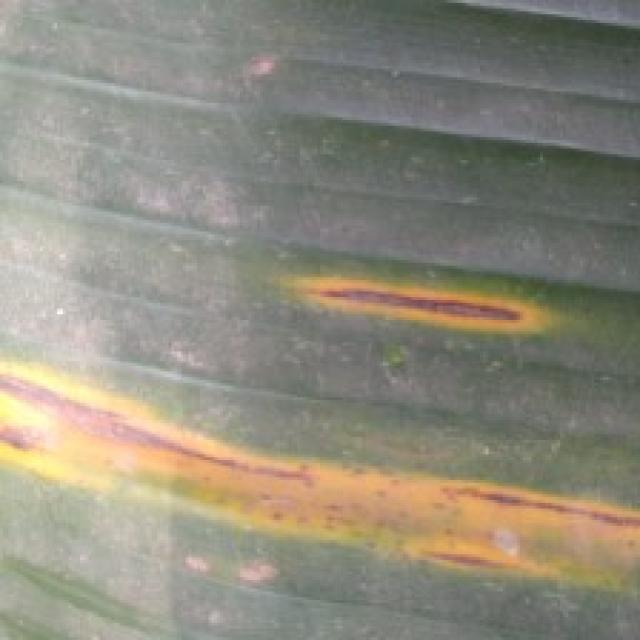Early_leaf_spot: (0, 344, 640, 594), (281, 235, 569, 368), (231, 42, 295, 113)
